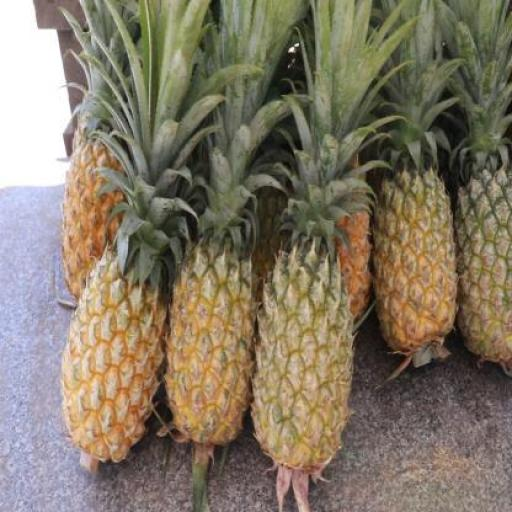------------------------------: (252, 253, 352, 468)
Pineapple - v8 v1: (60, 248, 166, 460), (163, 253, 255, 451), (373, 178, 458, 357), (60, 137, 131, 315)
